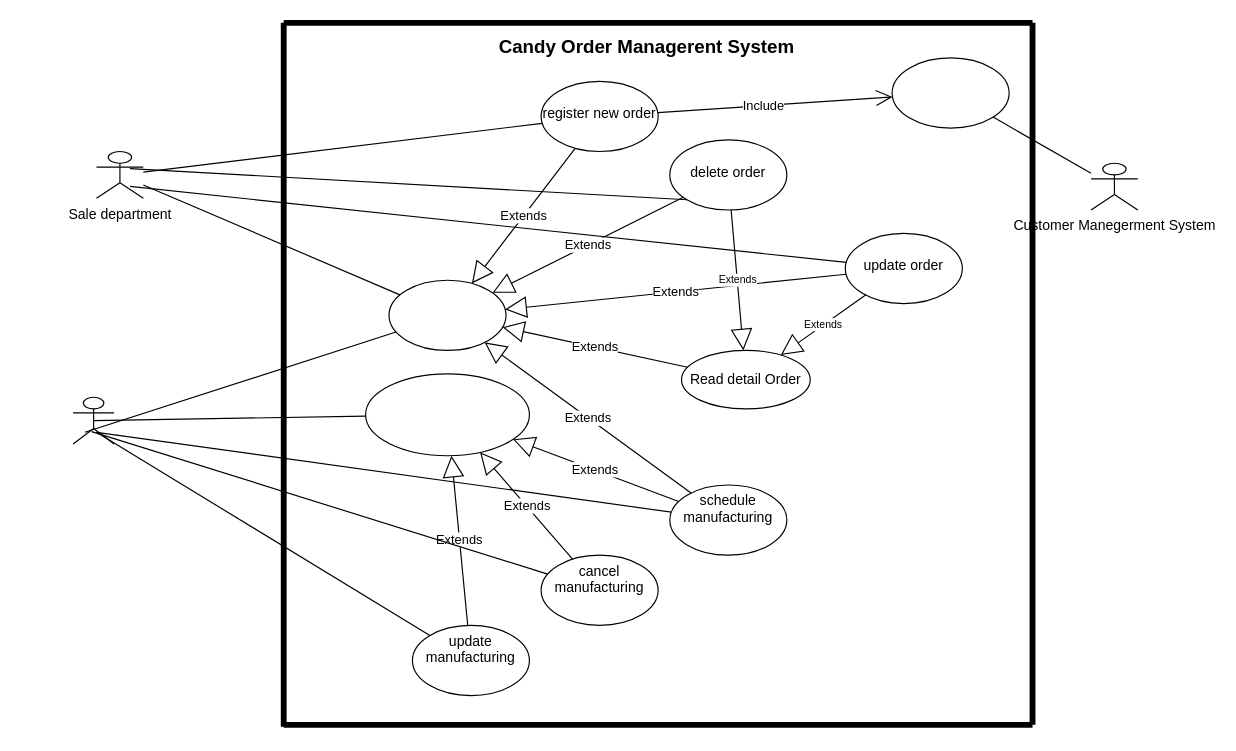
This 1236x751 diagram has some shape labels left out. The centre of each missing label's shape, as x and y in pixels:
"get infomation customer" goes at [950,92].
"manufature department" goes at [93,420].
"Read manufacturing" goes at [446,414].
"read order" goes at [447,314].
